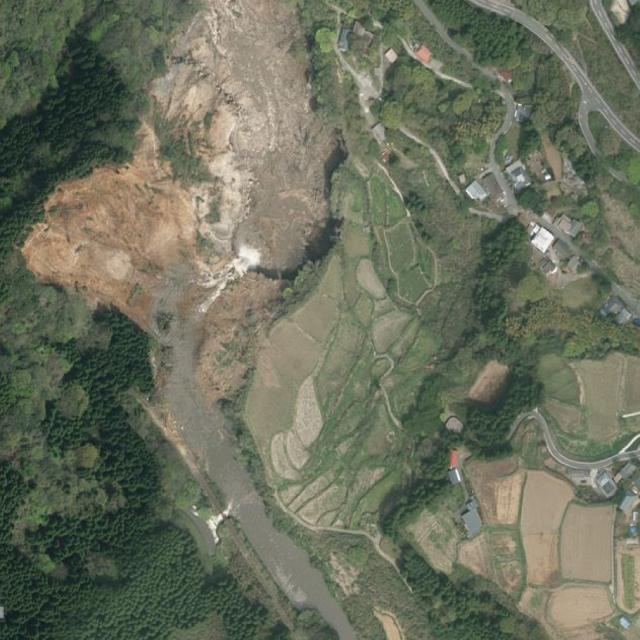landslide: (22, 0, 338, 400)
